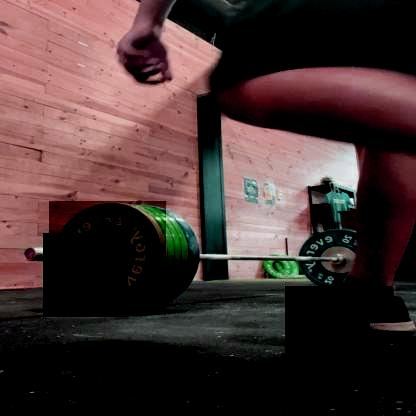barbell: (48, 202, 165, 315)
